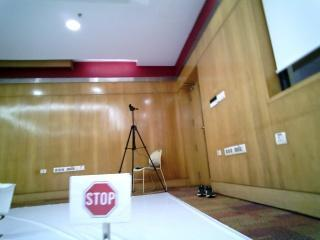stop: (81, 174, 127, 224)
